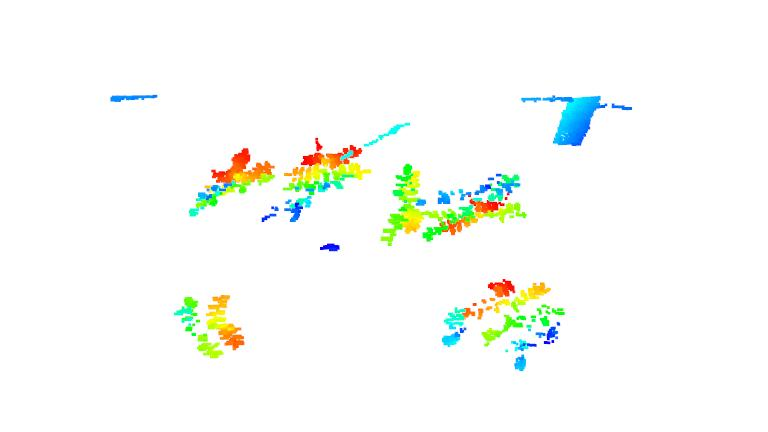chickpea: (442, 277, 562, 372), (258, 135, 372, 222), (420, 172, 531, 243), (184, 146, 275, 220), (177, 289, 245, 361), (380, 163, 427, 245)
